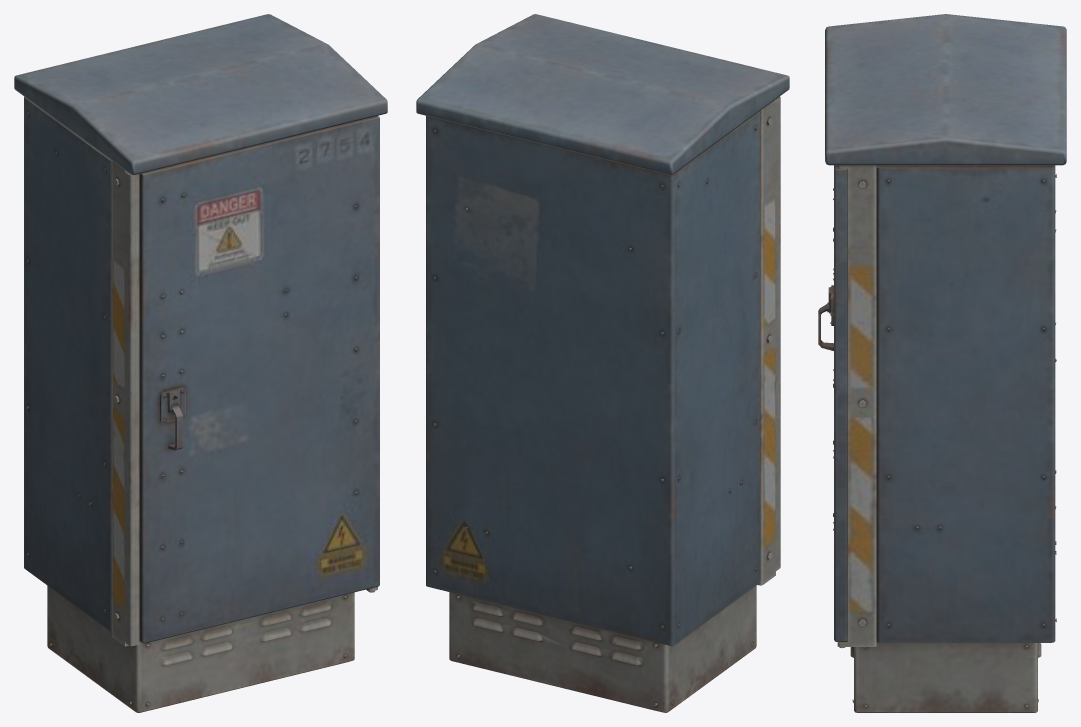
The model's file is utility_box_01.lod1.glb.
The picture shows the model from 3 angles, left to right: view 1: azimuth 30°, elevation 25°; view 2: azimuth 150°, elevation 25°; view 3: azimuth 270°, elevation 25°; orthographic projection.
Visible parts, largest first — view 1: utility_box_01_box; view 2: utility_box_01_box; view 3: utility_box_01_box.
Boxes of the visible parts, box(x1,y1,x2,y2) form: utility_box_01_box: box(14, 14, 387, 712); utility_box_01_box: box(416, 14, 789, 712); utility_box_01_box: box(818, 14, 1066, 712).
Size of the model in its own units: 0.52 by 1.12 by 0.432.
Materials: 1 (1 with a texture image).
